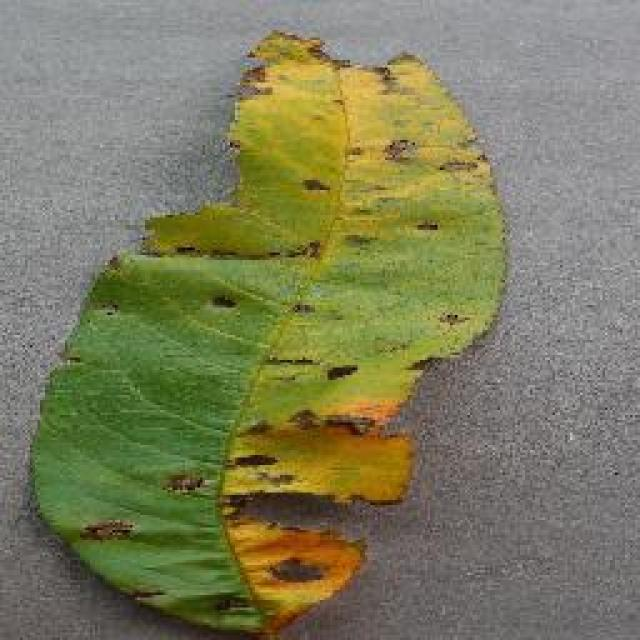Peach_Bacterial_Spot: (198, 40, 395, 593)
